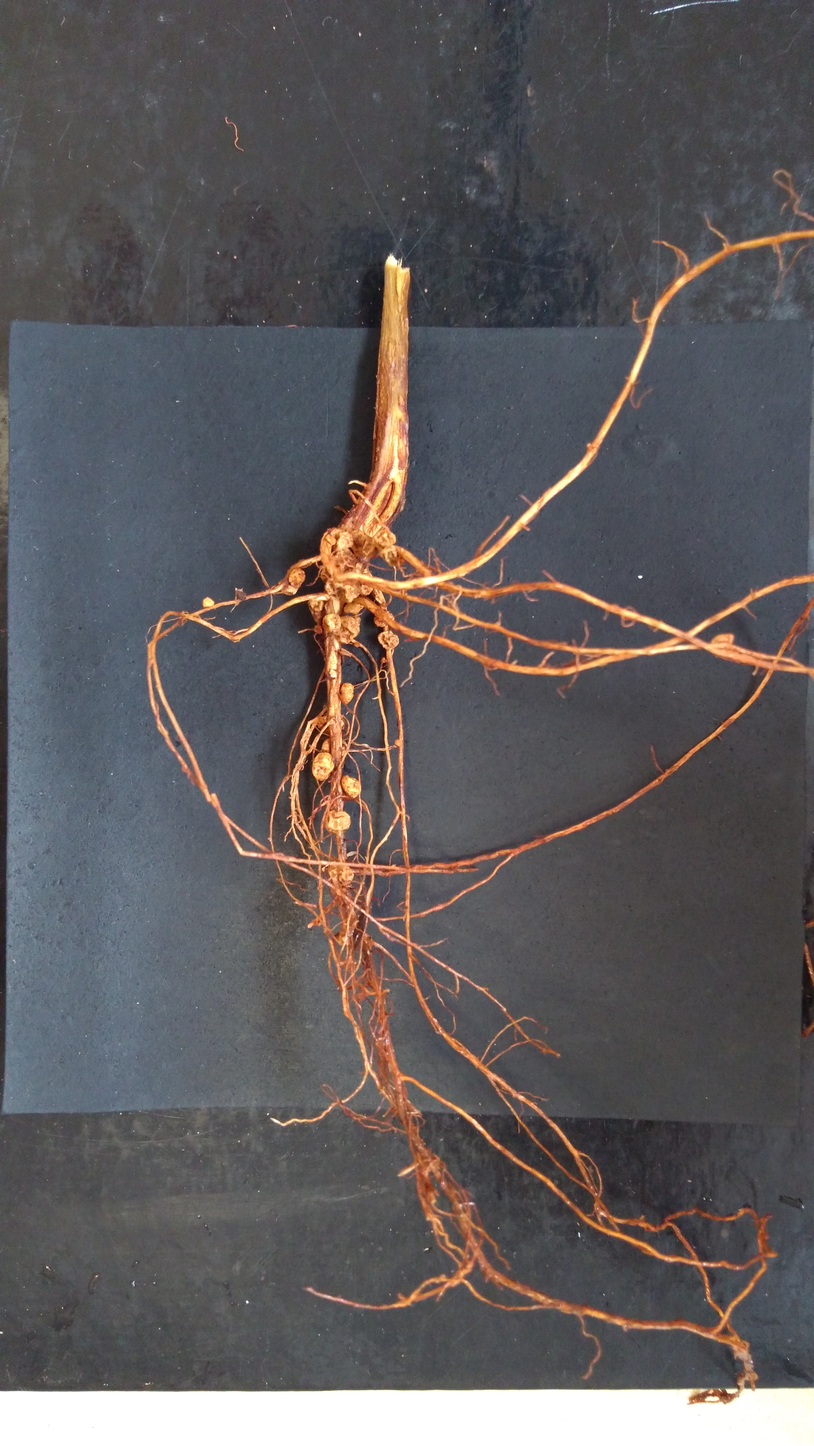nodule: (330, 548, 376, 596), (323, 574, 363, 605), (323, 807, 353, 835), (337, 614, 362, 646), (311, 751, 335, 783), (337, 676, 359, 707), (340, 774, 364, 800), (376, 628, 403, 651), (316, 714, 345, 734), (372, 527, 400, 547), (322, 737, 348, 758), (306, 597, 324, 626), (287, 564, 307, 590), (379, 546, 403, 567), (320, 612, 342, 634), (333, 530, 355, 551), (372, 610, 397, 628), (709, 631, 735, 648), (321, 598, 344, 617), (282, 579, 299, 599), (338, 865, 354, 886), (328, 863, 341, 887), (202, 594, 217, 608)
